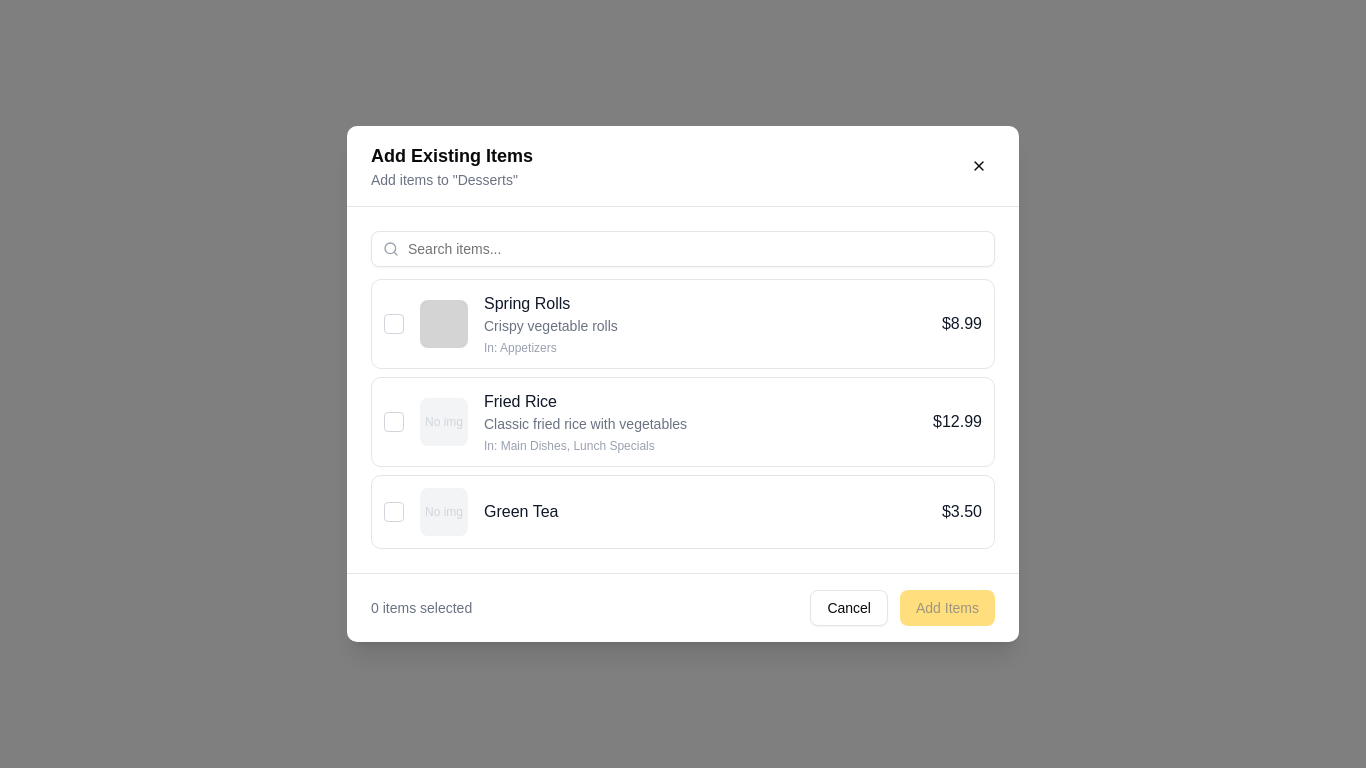
Test: AddExistingItemModal › Selection › should deselect item when clicked again
Check: the text "Spring Rolls" is shown, box [484, 295, 570, 312]
Click the button "Spring Rolls" at (444, 324), box [371, 279, 995, 369]
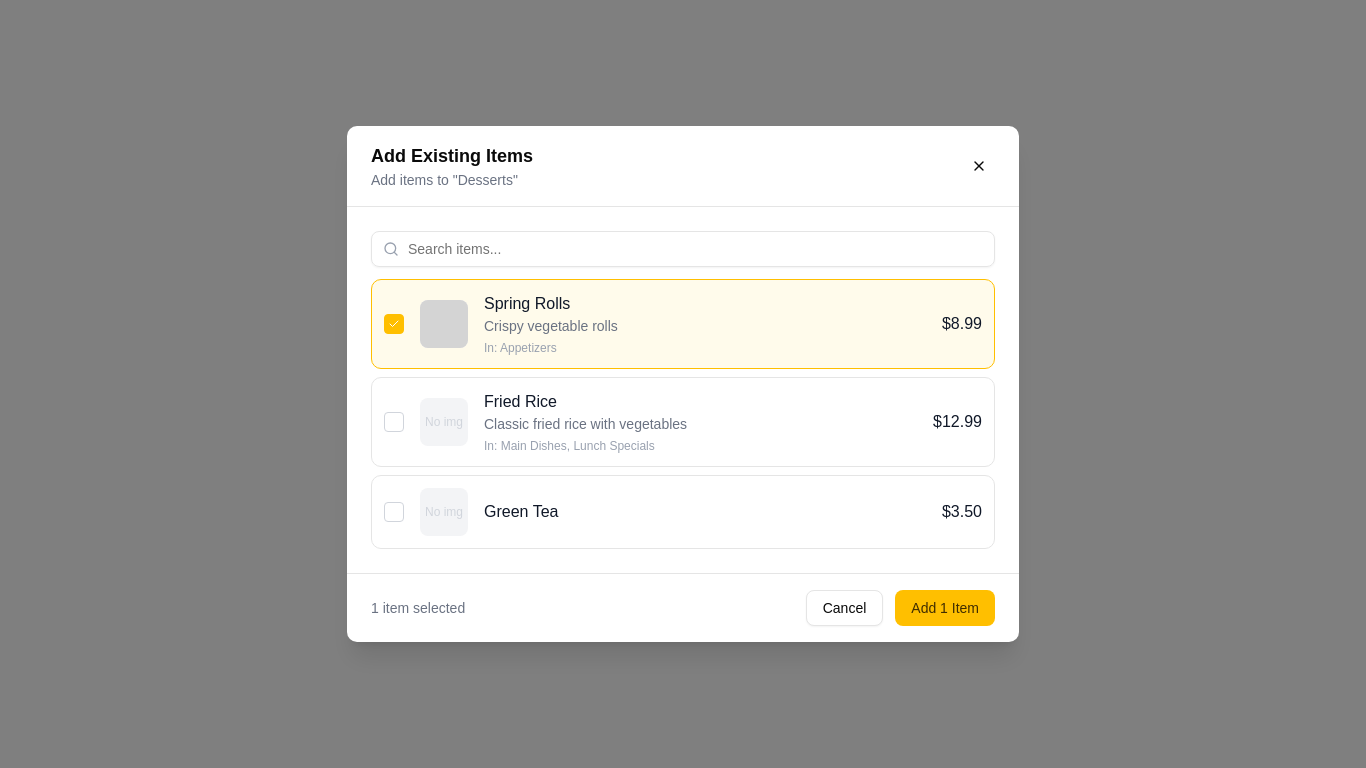
Check: the text "1 item selected" is shown, box [371, 598, 465, 618]
Click the button "Spring Rolls" at (444, 324), box [371, 279, 995, 369]
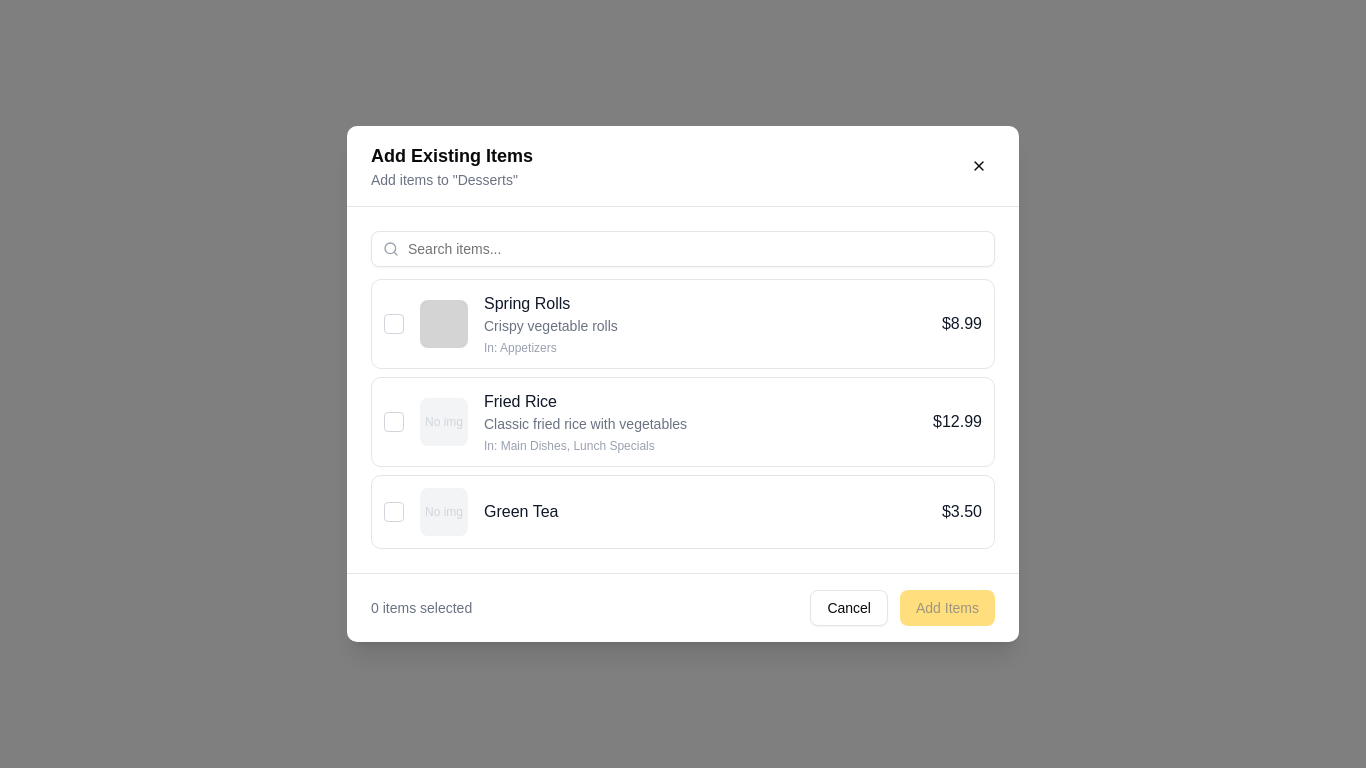
Check: the text "0 items selected" is shown, box [371, 598, 472, 618]
